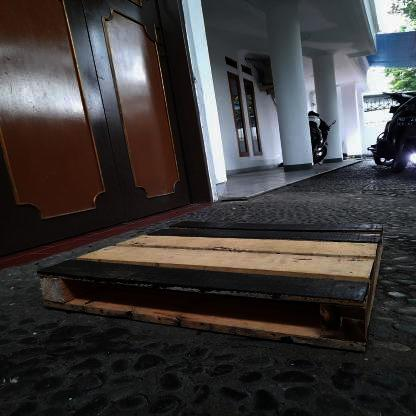Wooden-Pallet: (40, 218, 386, 349)
